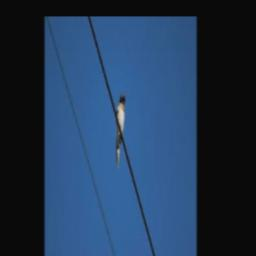Swallow: (115, 93, 125, 168)
